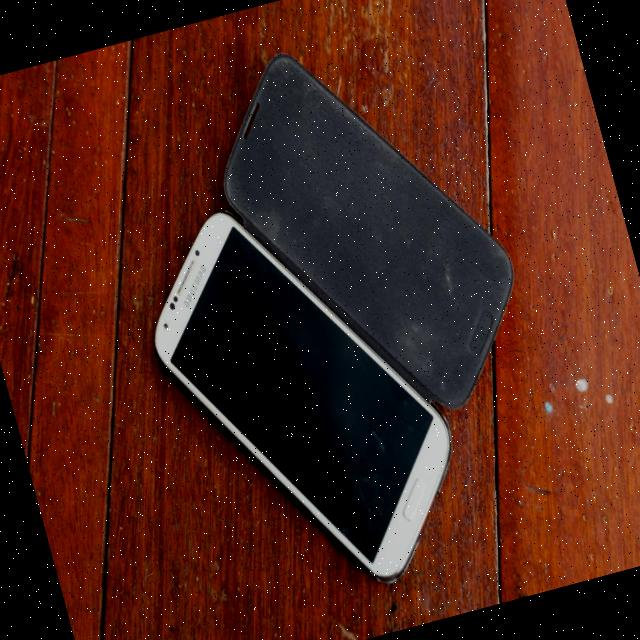Phone: (124, 167, 482, 624)
